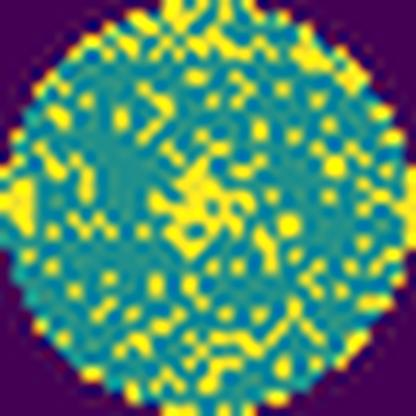Center: (150, 154, 253, 260)
